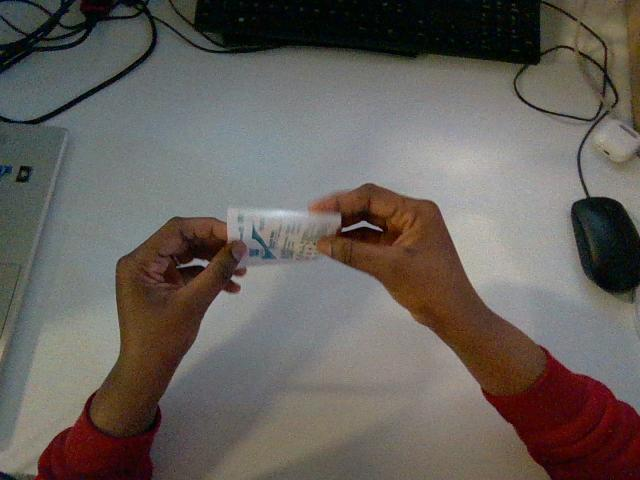gauze: (228, 207, 340, 267)
